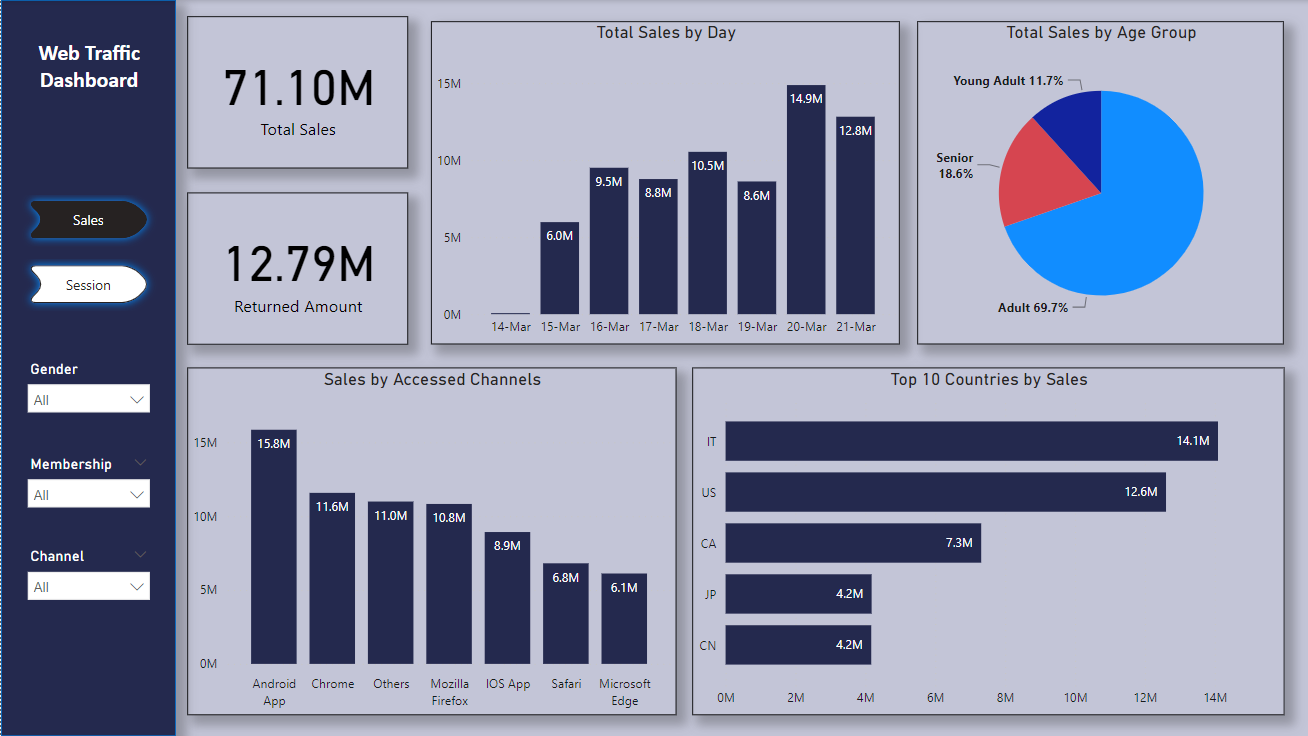

This screenshot's page, from the dashboard's own definition file:
{"tool":"powerbi","page":{"name":"Sales","canvas":[1280,720],"ordinal":0},"visuals":[{"type":"clusteredBarChart","title":"Top 10 Countries by Sales","fields":{"Category":["E-commerce Website Logs.country"],"Y":["E-commerce Website Logs.Total Sales"]},"box":[675.6,359.8,579.3,340.2],"z":0},{"type":"clusteredColumnChart","title":"Sales by Accessed Channels","fields":{"Y":["E-commerce Website Logs.Total Sales"],"Category":["E-commerce Website Logs.accessed_From"]},"box":[181.7,359.8,478,340.2],"z":1000},{"type":"shape","box":[0,0,171.1,720],"z":2000},{"type":"textbox","box":[23.2,34.1,125.6,70.7],"z":3000},{"type":"pageNavigator","box":[15.9,188.3,139.4,117.4],"z":4000},{"type":"slicer","fields":{"Values":["E-commerce Website Logs.gender"]},"box":[15.6,346.9,139.4,80],"z":5000},{"type":"slicer","fields":{"Values":["E-commerce Website Logs.membership"]},"box":[15.6,440.6,139.4,75.6],"z":6000},{"type":"slicer","fields":{"Values":["E-commerce Website Logs.accessed_From"]},"box":[15.6,530.6,139.4,76.2],"z":7000},{"type":"card","fields":{"Values":["E-commerce Website Logs.Total Sales"]},"box":[181.7,15.9,215.9,148.8],"z":8000},{"type":"card","fields":{"Values":["Sum(E-commerce Website Logs.returned_amount)"]},"box":[181.7,187.8,215.9,148.8],"z":9000},{"type":"clusteredColumnChart","fields":{"Category":["Calender.Day"],"Y":["E-commerce Website Logs.Total Sales"]},"box":[420.7,20.7,458.5,315.9],"z":10000},{"type":"pieChart","fields":{"Category":["E-commerce Website Logs.Age Group"],"Y":["E-commerce Website Logs.Total Sales"]},"box":[896.3,20.7,358.5,315.9],"z":11000}]}

Visuals, with their boxes in screenshot pixels (x1, y1, x2, y2), scaled from the page's 1280x720 canvas onto the 1308x736 screenshot:
"Top 10 Countries by Sales" clusteredBarChart: <box>690,368,1282,716</box>
"Sales by Accessed Channels" clusteredColumnChart: <box>186,368,674,716</box>
shape: <box>0,0,175,735</box>
textbox: <box>24,35,152,107</box>
pageNavigator: <box>16,192,159,312</box>
slicer - E-commerce Website Logs.gender: <box>16,355,158,436</box>
slicer - E-commerce Website Logs.membership: <box>16,450,158,528</box>
slicer - E-commerce Website Logs.accessed_From: <box>16,542,158,620</box>
card - E-commerce Website Logs.Total Sales: <box>186,16,406,168</box>
card - Sum(E-commerce Website Logs.returned_amount): <box>186,192,406,344</box>
clusteredColumnChart - Calender.Day x E-commerce Website Logs.Total Sales: <box>430,21,898,344</box>
pieChart - E-commerce Website Logs.Age Group x E-commerce Website Logs.Total Sales: <box>916,21,1282,344</box>
